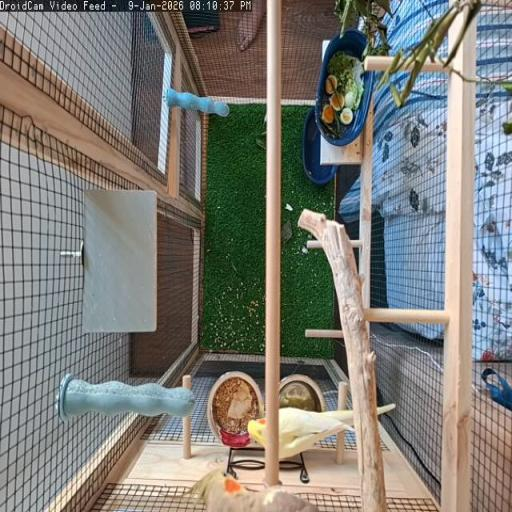bebedero: (280, 374, 326, 409)
comedero: (206, 372, 263, 446)
ninfa: (184, 469, 318, 511), (279, 409, 354, 460), (248, 418, 270, 446), (377, 404, 394, 414)
